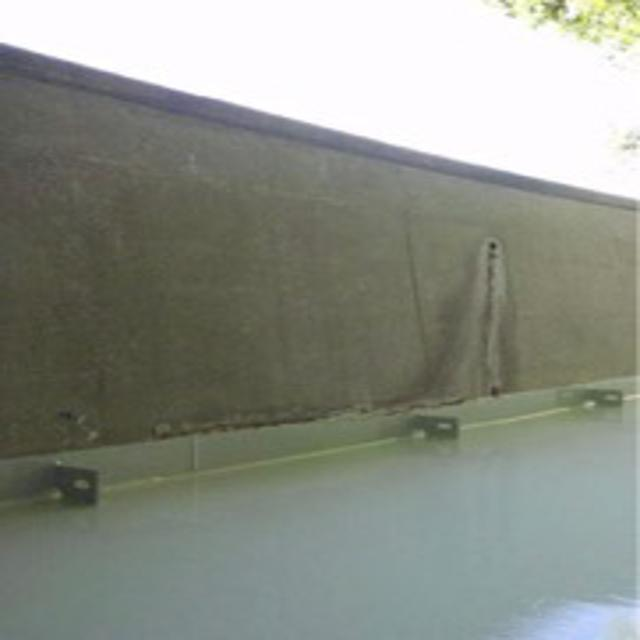freelime: (463, 234, 518, 407)
